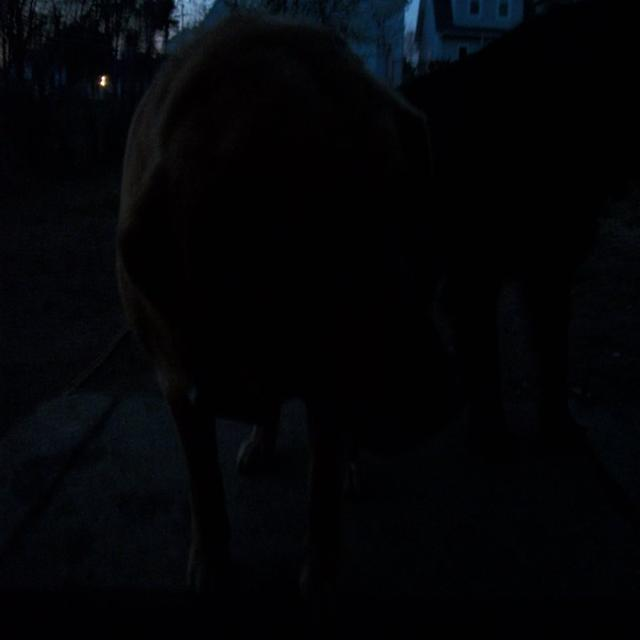Dog: (98, 34, 640, 536)
